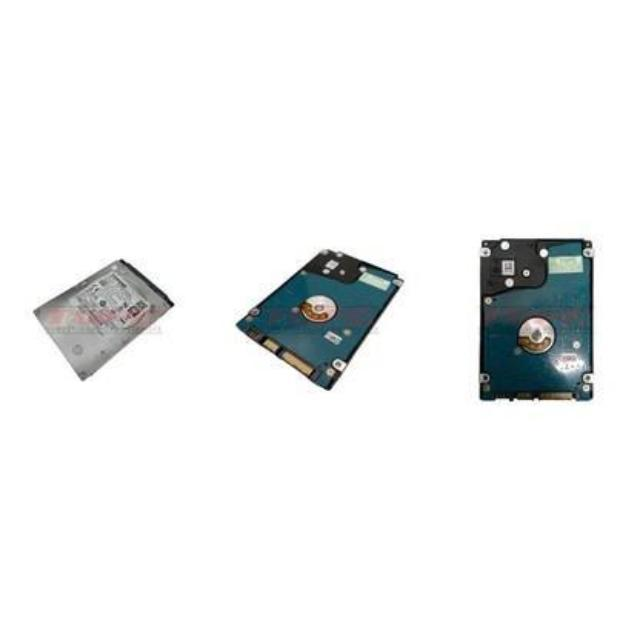DISK: (236, 238, 407, 393), (468, 228, 598, 404), (31, 244, 174, 382)
